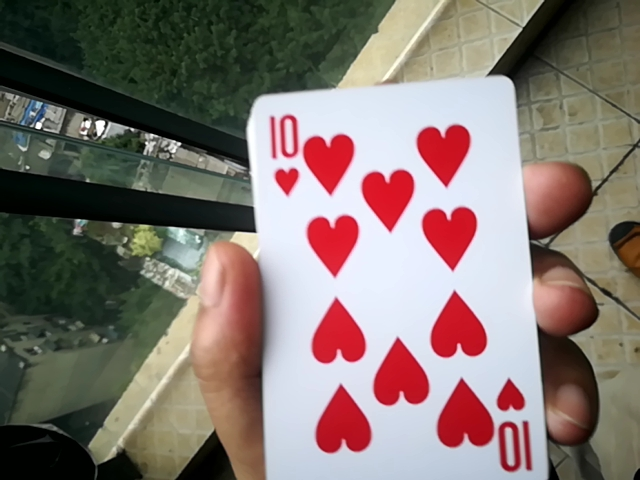hx 10: (240, 74, 539, 475)
